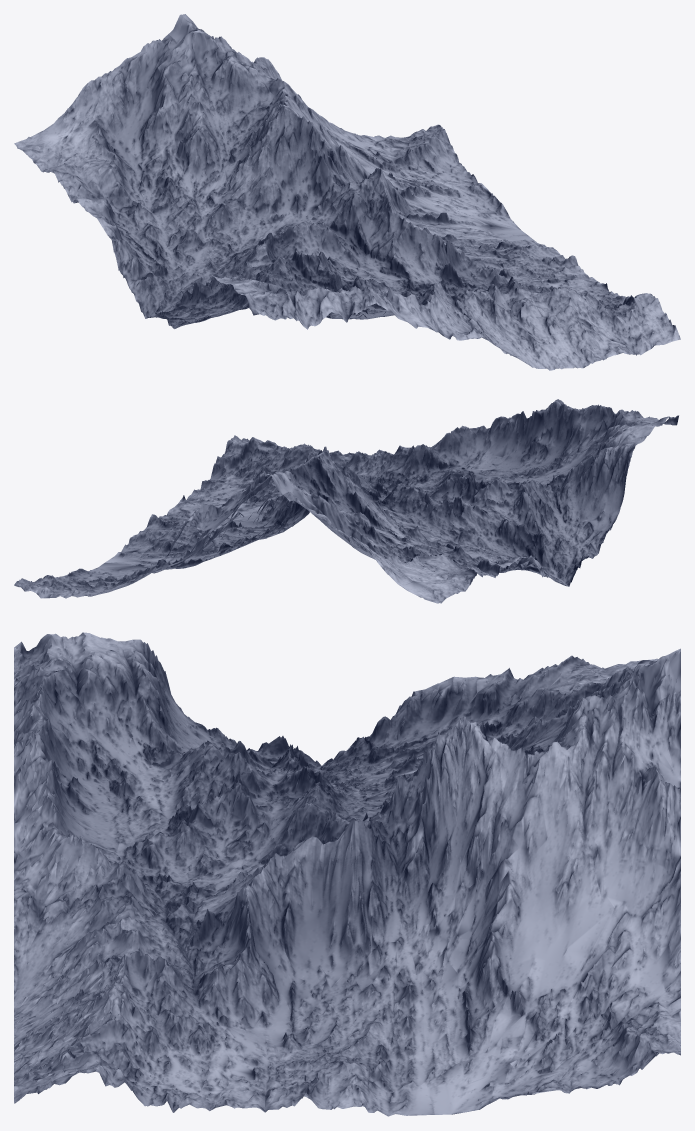
The model's file is mountain-peak.glb.
The picture shows the model from 3 angles, top to bottom: view 1: azimuth 30°, elevation 25°; view 2: azimuth 150°, elevation 25°; view 3: azimuth 270°, elevation 25°; orthographic projection. The views are drawn at different scales.
Visible parts, largest first — view 1: Object_2; view 2: Object_2; view 3: Object_2.
Part boxes in pixels (left/top/right/bottom): Object_2: left=14, top=14, right=680, bottom=370; Object_2: left=14, top=399, right=678, bottom=603; Object_2: left=14, top=632, right=680, bottom=1116.
Size of the model in its own units: 3.15 by 1.55 by 3.15.
1 material, 1 textured.
